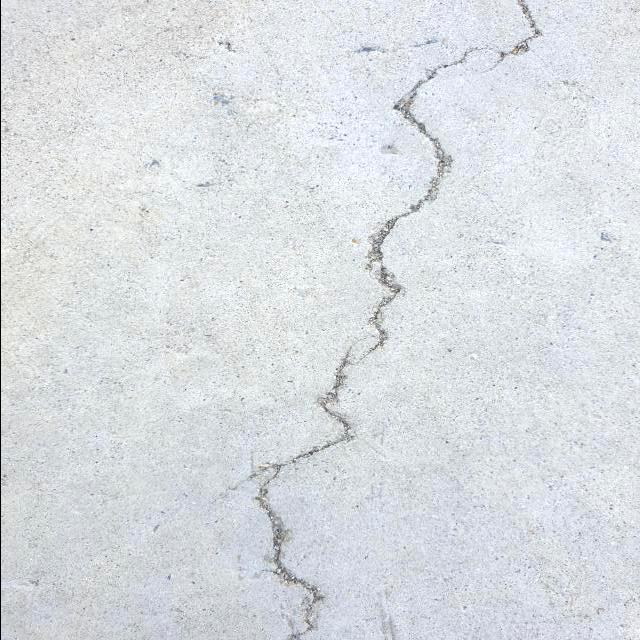SurfaceCrack: (211, 2, 493, 640)
